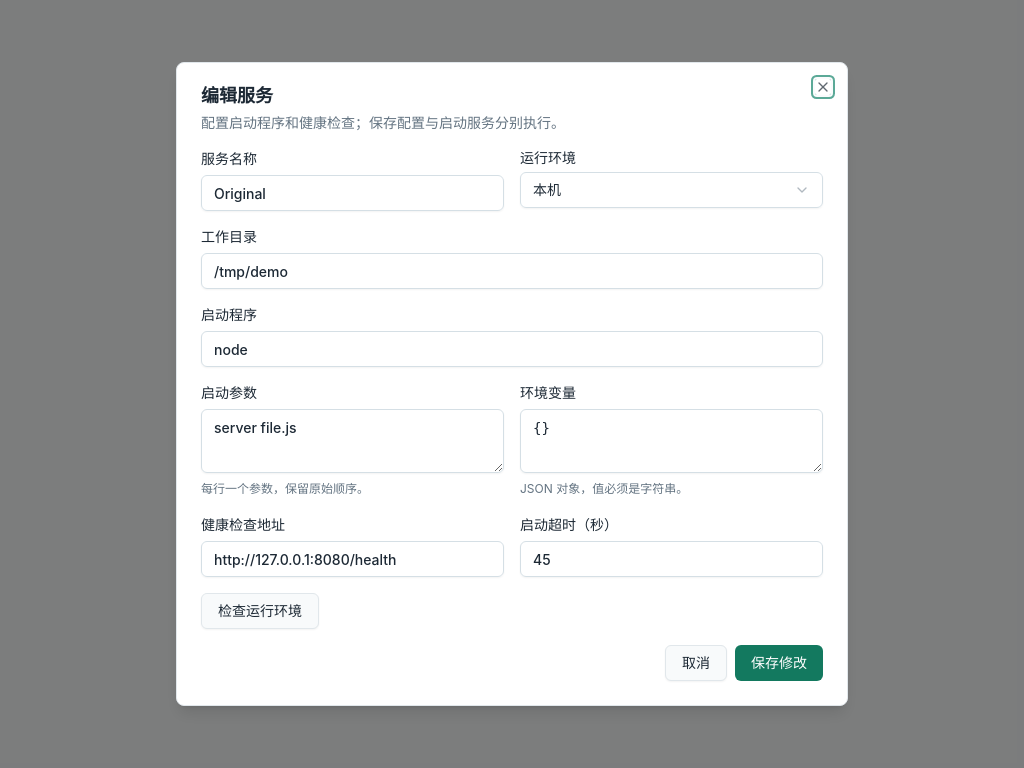
Test case: service editor migration › retains edited inputs and original concurrency version after conflict and background refetch
The image size is (1024, 768).
Step 1. Replace the text in the field labelled "服务名称" with "My unsaved edit" → (352, 193), box [201,175,504,211]
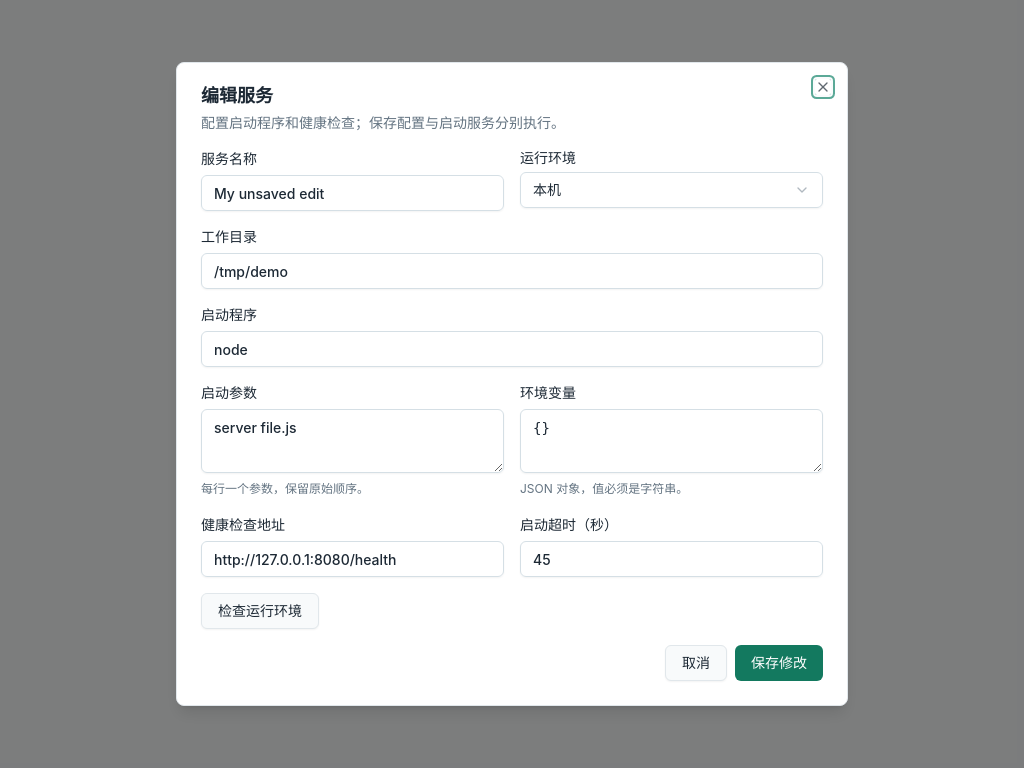
Step 2. Click the button "保存修改" → (779, 663), box [735,645,823,681]
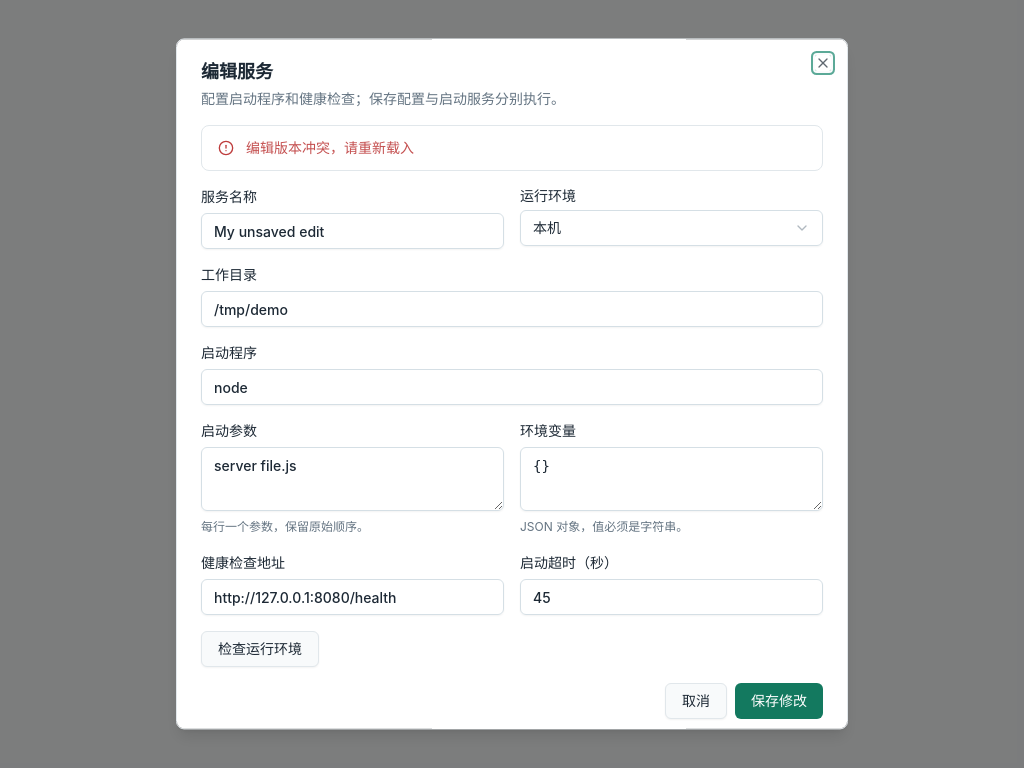
Expected: the field labelled "服务名称" holds "My unsaved edit", [201,213,504,249]
Expected: the text "编辑版本冲突，请重新载入" is shown, [246,139,414,156]
